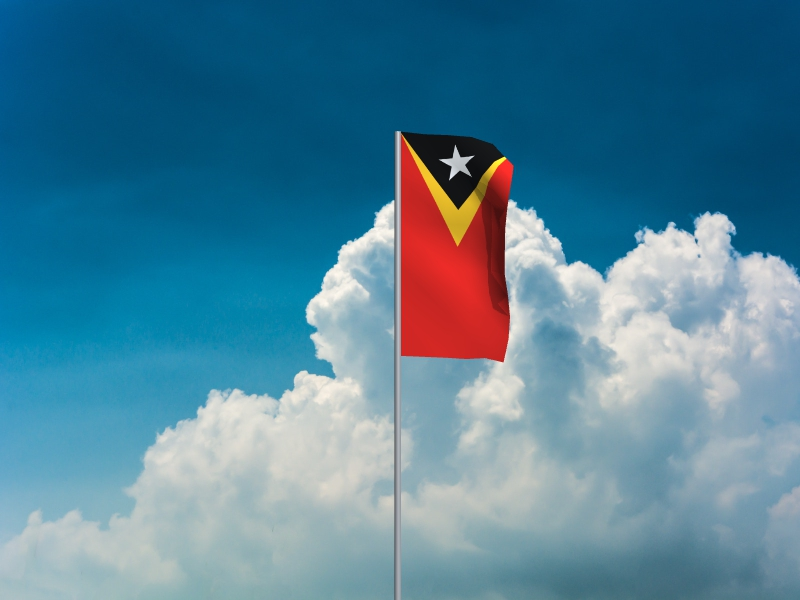tl: (399, 132, 514, 364)
